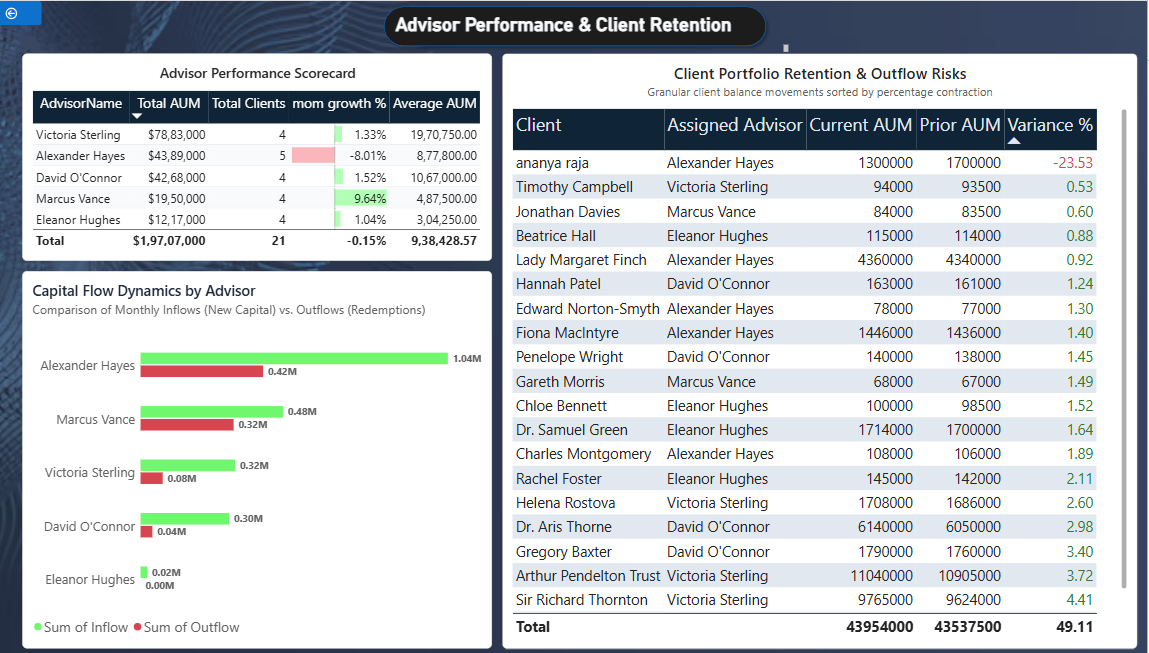

The page's visual inventory and layout, read from the dashboard file:
{"tool":"powerbi","page":{"name":"Page 2","canvas":[1920,1080],"ordinal":1},"visuals":[{"type":"tableEx","title":"Advisor Performance Scorecard","fields":{"Values":["ADVISORS_PERFORMANCE.AdvisorName","dax.Total AUM","dax.total_clients","dax.mom growth %","dax.average aum(advisor)"]},"box":[67.9,86.4,773.9,341.7],"z":0},{"type":"shape","box":[654.5,0,647.4,83.5],"z":1000},{"type":"textbox","title":"Advisor Performance & Client Retention","box":[588.7,20.6,741,63.2],"z":2000},{"type":"tableEx","title":"Client Portfolio Retention & Outflow Risks","fields":{"Values":["CLIENTS AUM VS PAUM.ClientName","CLIENTS AUM VS PAUM.AdvisorName","Sum(CLIENTS AUM VS PAUM.CurrentAUM)","Sum(CLIENTS AUM VS PAUM.PastAUM)","Sum(CLIENTS AUM VS PAUM.PercentageChange)"]},"box":[858.3,86.4,1045.6,979.8],"z":3000},{"type":"actionButton","box":[0,0,100,40],"z":4000},{"type":"clusteredBarChart","title":"Capital Flow Dynamics by Advisor","fields":{"Category":["dim_advisor.AdvisorName"],"Y":["Sum(fact_aum_monthly_n.Inflow)","Sum(fact_aum_monthly_n.Outflow)"]},"box":[67.9,444.6,773.9,621.6],"z":5001}]}

Visuals, with their boxes in screenshot pixels (x1, y1, x2, y2), scaled from the page's 1920x1080 canvas onto the 1149x653 screenshot:
"Advisor Performance Scorecard" tableEx: 41/52/504/259
shape: 392/0/779/50
"Advisor Performance & Client Retention" textbox: 352/12/796/51
"Client Portfolio Retention & Outflow Risks" tableEx: 514/52/1139/645
actionButton: 0/0/60/24
"Capital Flow Dynamics by Advisor" clusteredBarChart: 41/269/504/645
